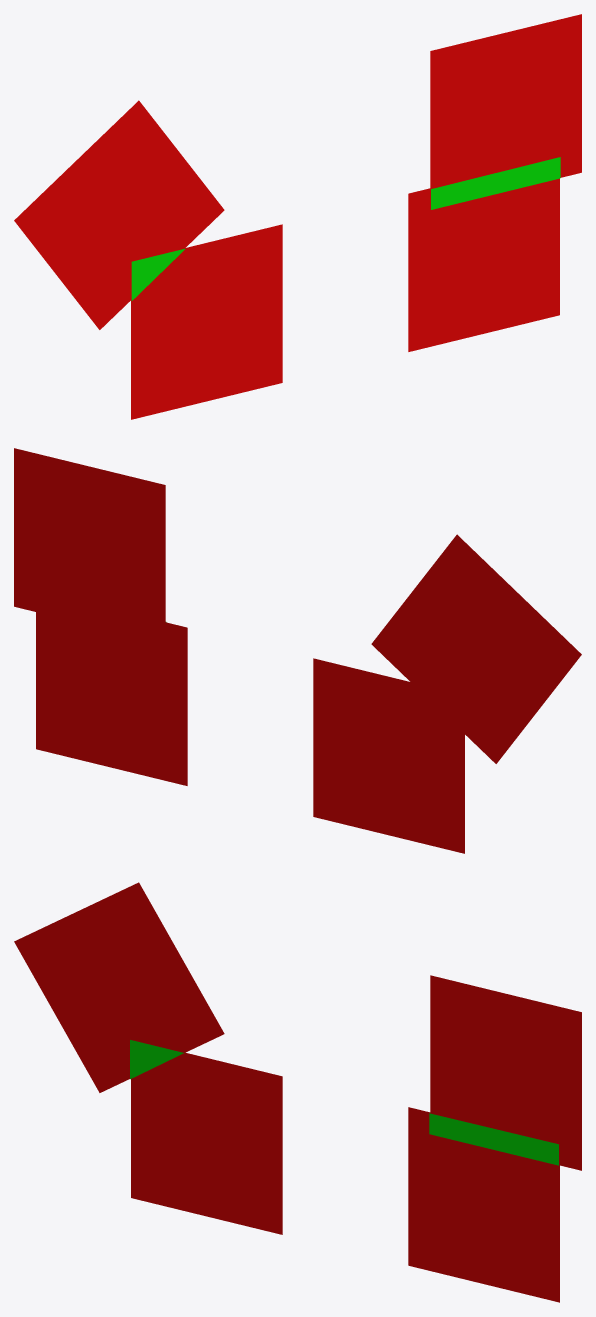
Rendered from physics_validation.glb.
3 views of the same model, one above another, from view 1: azimuth 30°, elevation 25°; view 2: azimuth 150°, elevation 25°; view 3: azimuth 330°, elevation 25° (orthographic).
Parts seen in each view (by area): view 1: Plane, Plane.001, Plane.004, Plane.003, Plane.005, Plane.002; view 2: Plane, Plane.003, Plane.004, Plane.001; view 3: Plane, Plane.001, Plane.003, Plane.004, Plane.005, Plane.002.
Boxes of the visible parts, x1,y1,x2,y2 form: Plane: (131, 224, 282, 419); Plane.001: (14, 100, 224, 329); Plane.004: (430, 14, 581, 209); Plane.003: (408, 178, 559, 351); Plane.005: (431, 157, 560, 209); Plane.002: (131, 248, 185, 300); Plane: (313, 658, 464, 853); Plane.003: (36, 591, 187, 785); Plane.004: (14, 448, 165, 643); Plane.001: (371, 534, 581, 763); Plane: (131, 1039, 282, 1234); Plane.001: (14, 882, 224, 1092); Plane.003: (408, 1107, 559, 1302); Plane.004: (430, 975, 581, 1170); Plane.005: (429, 1113, 558, 1165); Plane.002: (130, 1040, 183, 1079).
Bounding box in the file's own units: 3.75 × 2 × 0.01.
Materials: 2 (2 with a texture image).
